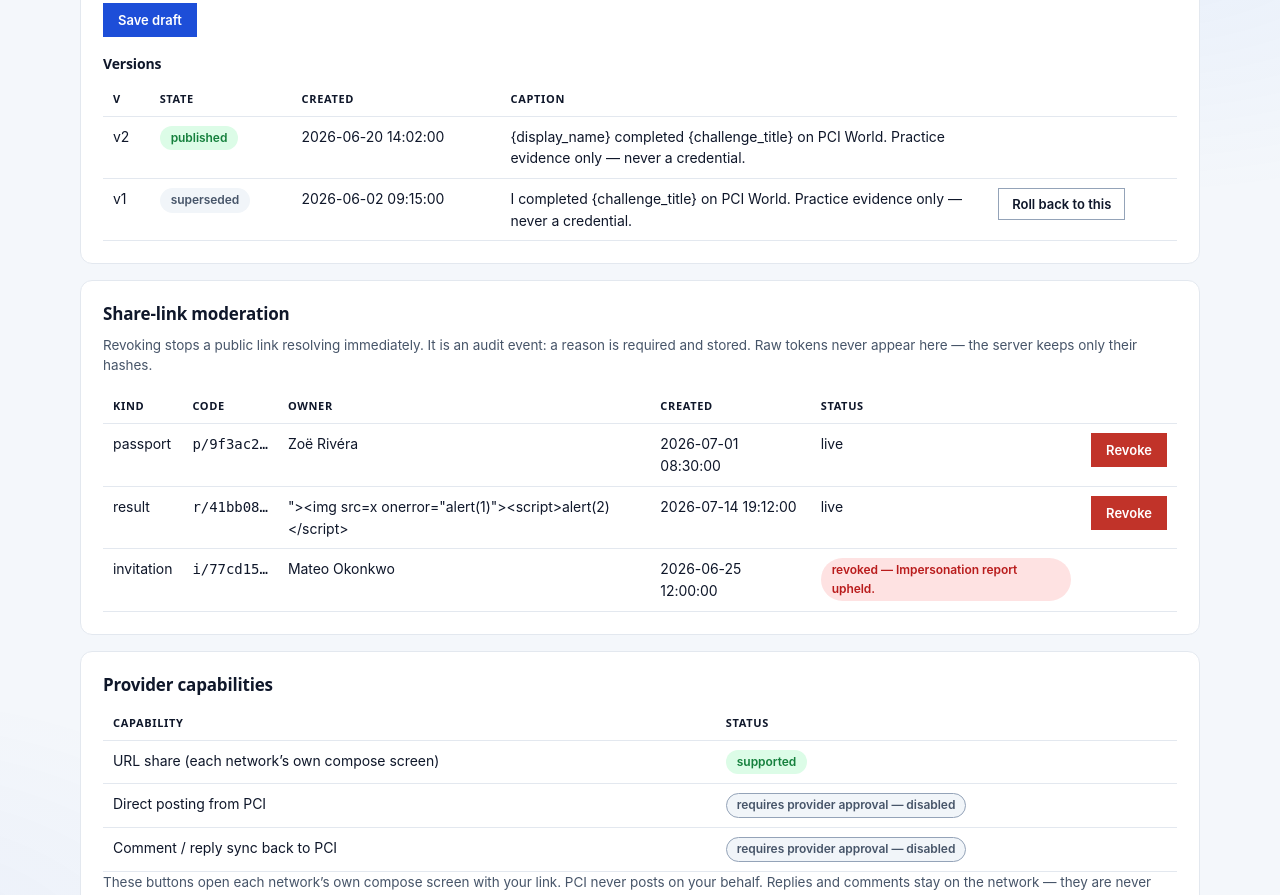
Scenario: share-link moderation › cancel closes the confirm without revoking
(page scrolled)
expect the heading "Share-link moderation" is shown: met, box [103, 302, 290, 325]
Click the button "Revoke" in the row of "p/9f3ac2…": (1129, 450) [1091, 434, 1167, 468]
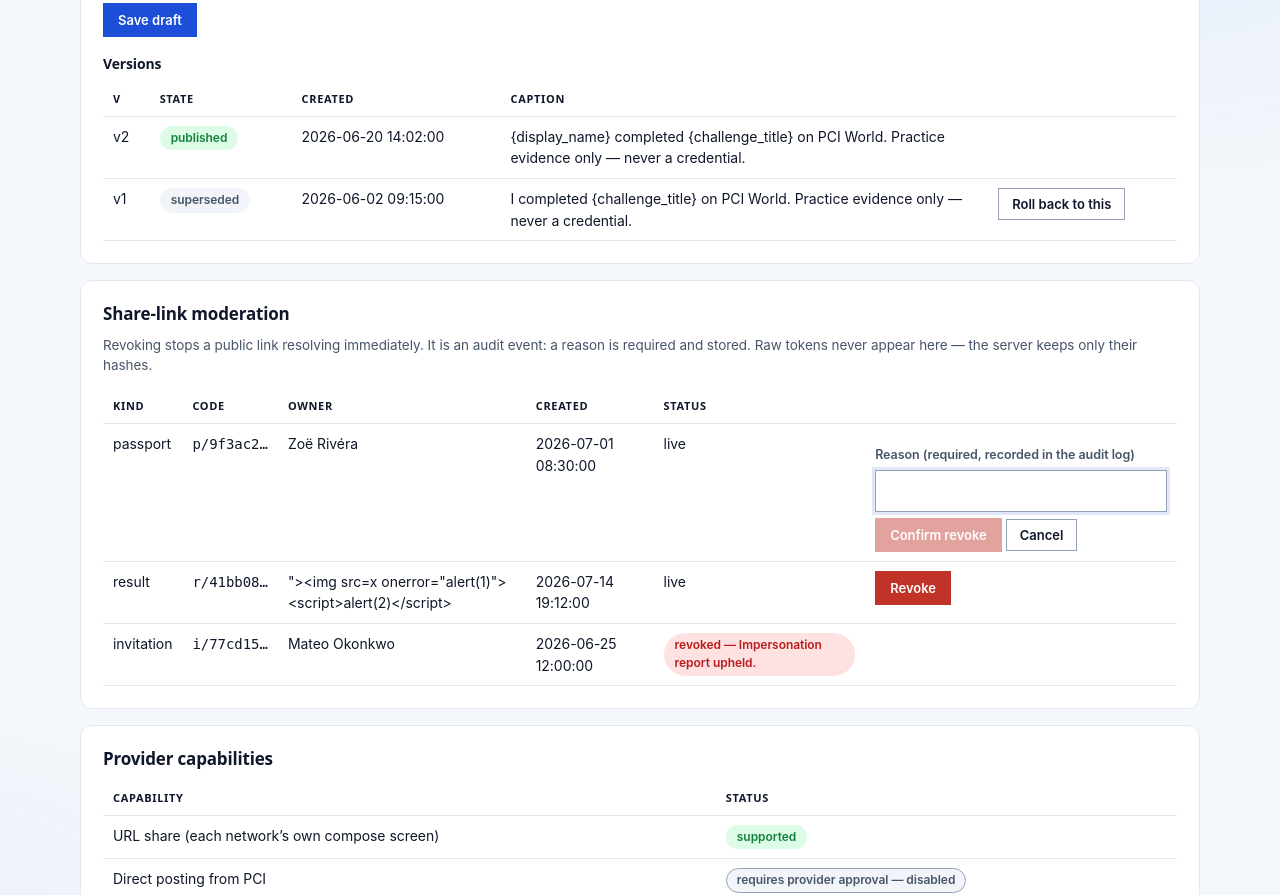
Click the button "Cancel": (1042, 534) [1006, 518, 1077, 550]
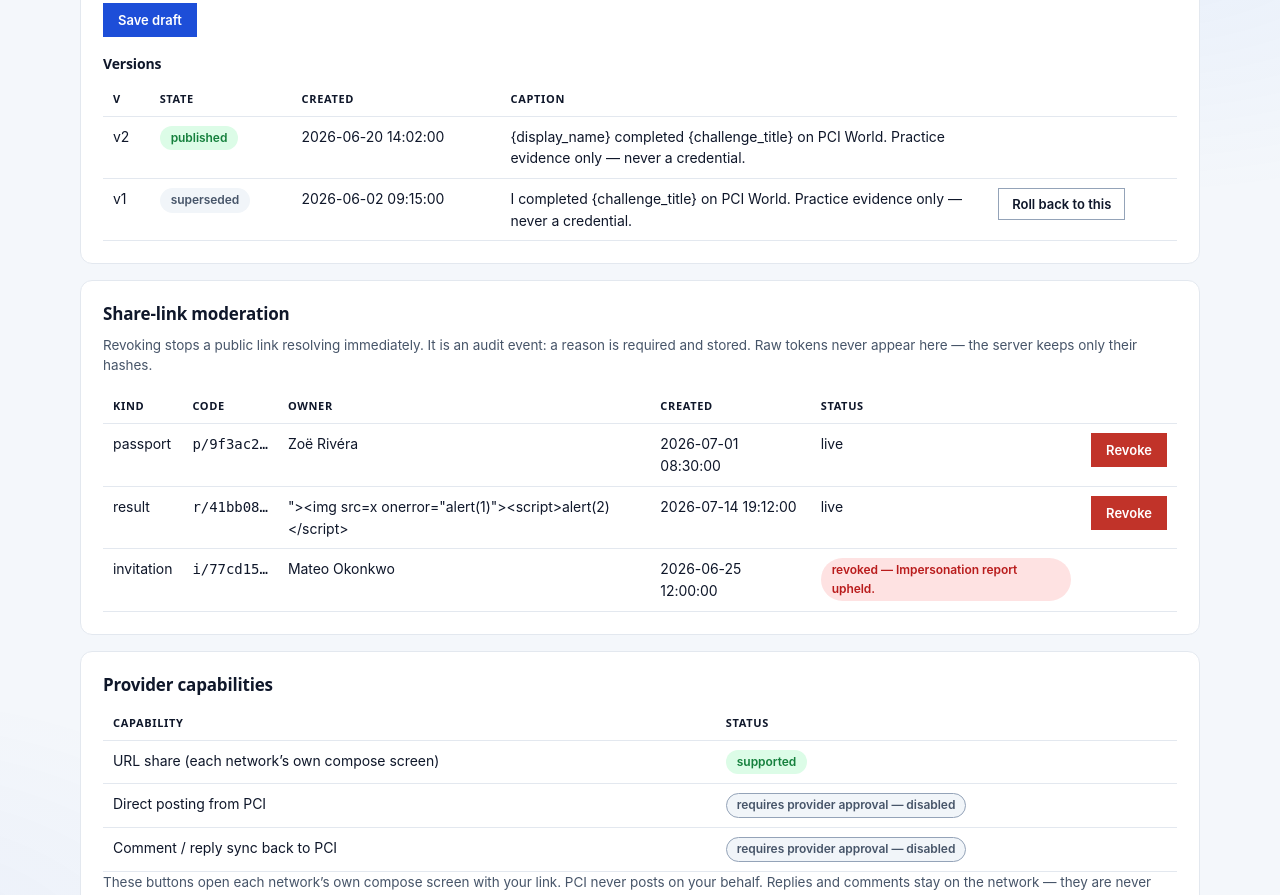
expect the button "Confirm revoke" is gone: met
expect the number of buttons "Revoke" is 2: met, box [1091, 434, 1167, 468]; [1091, 496, 1167, 530]
